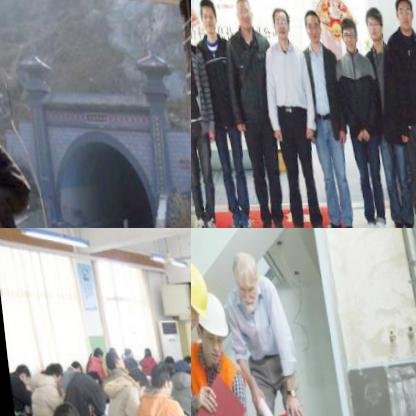head: (263, 4, 287, 38), (359, 4, 381, 41), (332, 14, 354, 49), (298, 7, 319, 43), (228, 0, 253, 30), (143, 361, 167, 392), (122, 362, 144, 395), (41, 395, 74, 416), (192, 0, 212, 32), (388, 0, 410, 28), (99, 349, 122, 375), (37, 359, 58, 387), (60, 356, 78, 380), (7, 361, 25, 383), (78, 367, 97, 386), (113, 339, 130, 359), (86, 342, 100, 362), (179, 363, 191, 384), (176, 350, 190, 366), (158, 351, 170, 365), (138, 344, 148, 358)
helmet: (191, 287, 231, 357), (191, 254, 211, 332)
